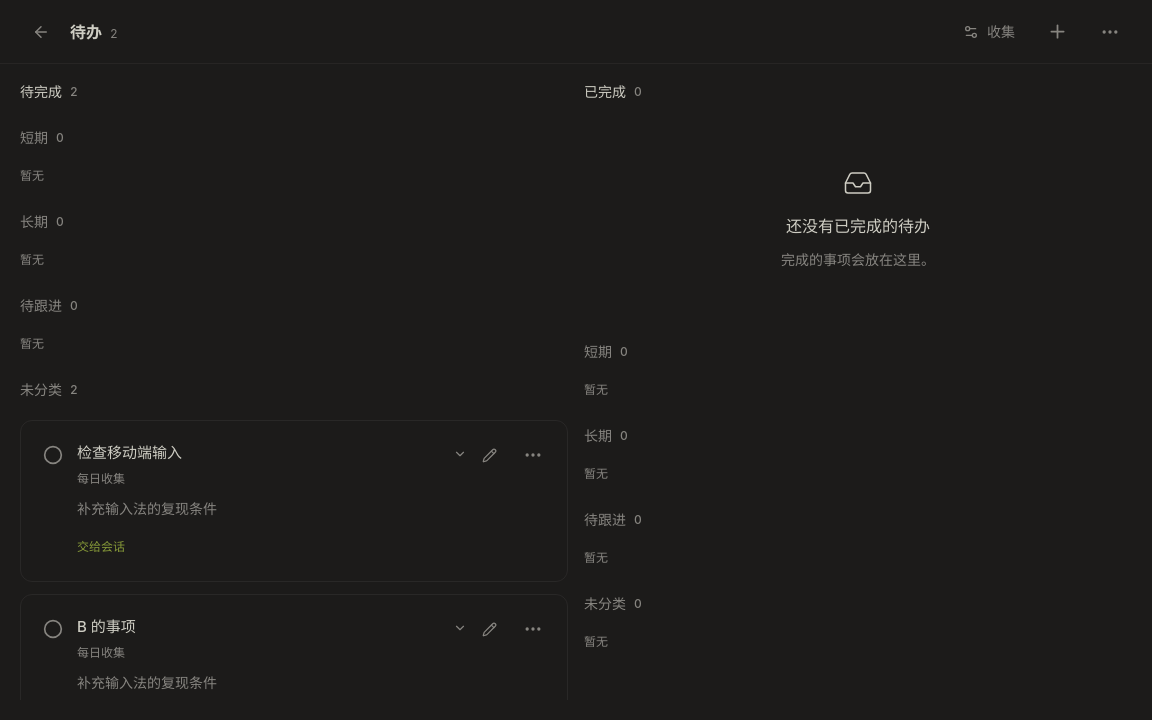
Test: filters identical collector names by stable ID and follows renamed labels
Expected: the text "检查移动端输入" is shown, [77,443,182,462]
Click the button named "待办菜单" at (1110, 32), box [1088,10,1132,54]
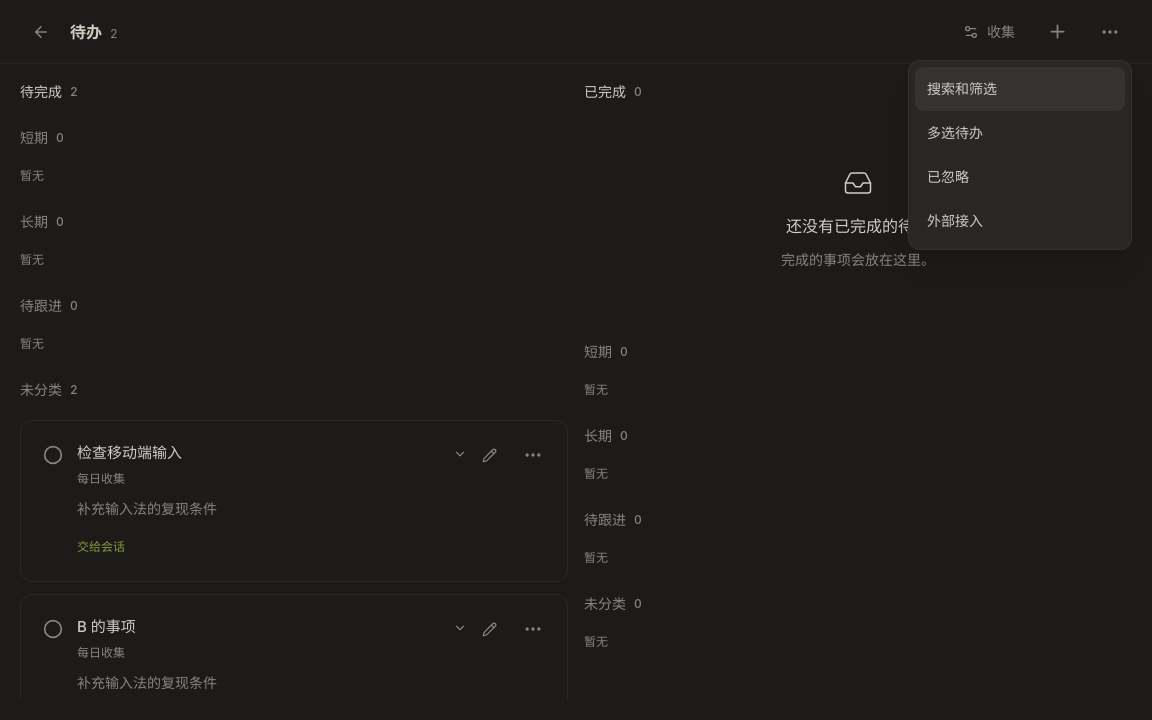
Click the menu item "搜索和筛选" at (1020, 88), box [915,66,1125,110]
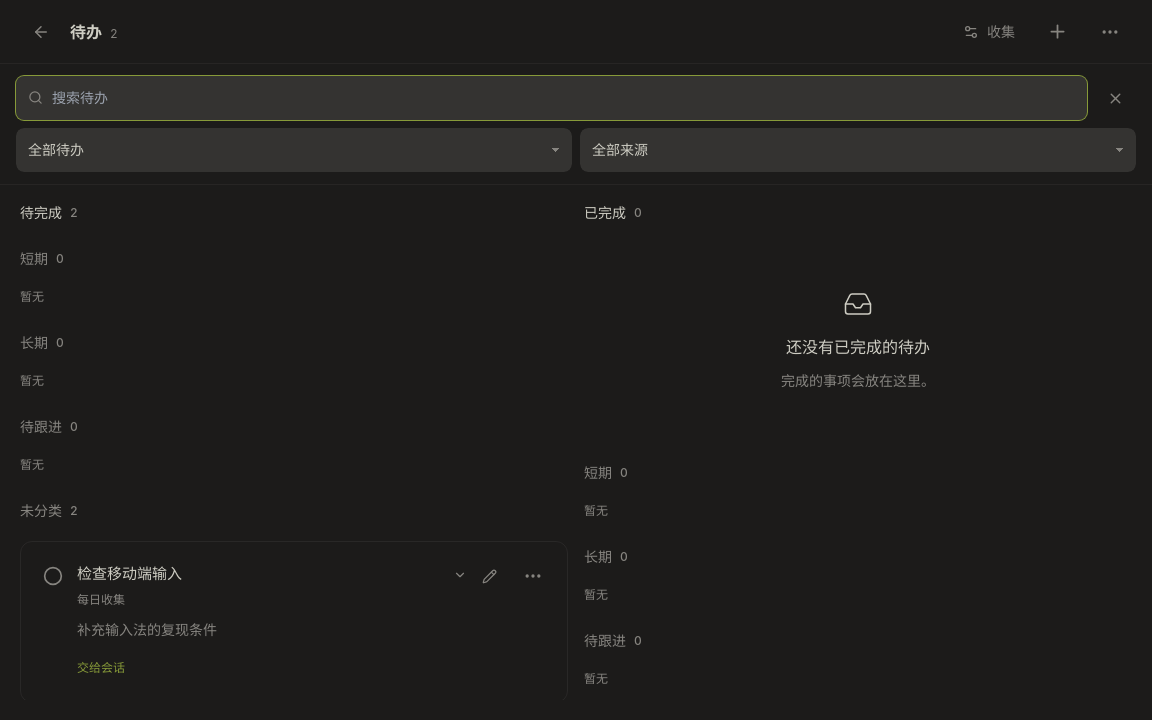
Select "每日收集 · collecto" in the dropdown named "按来源筛选" at (858, 150), box [580,128,1136,172]
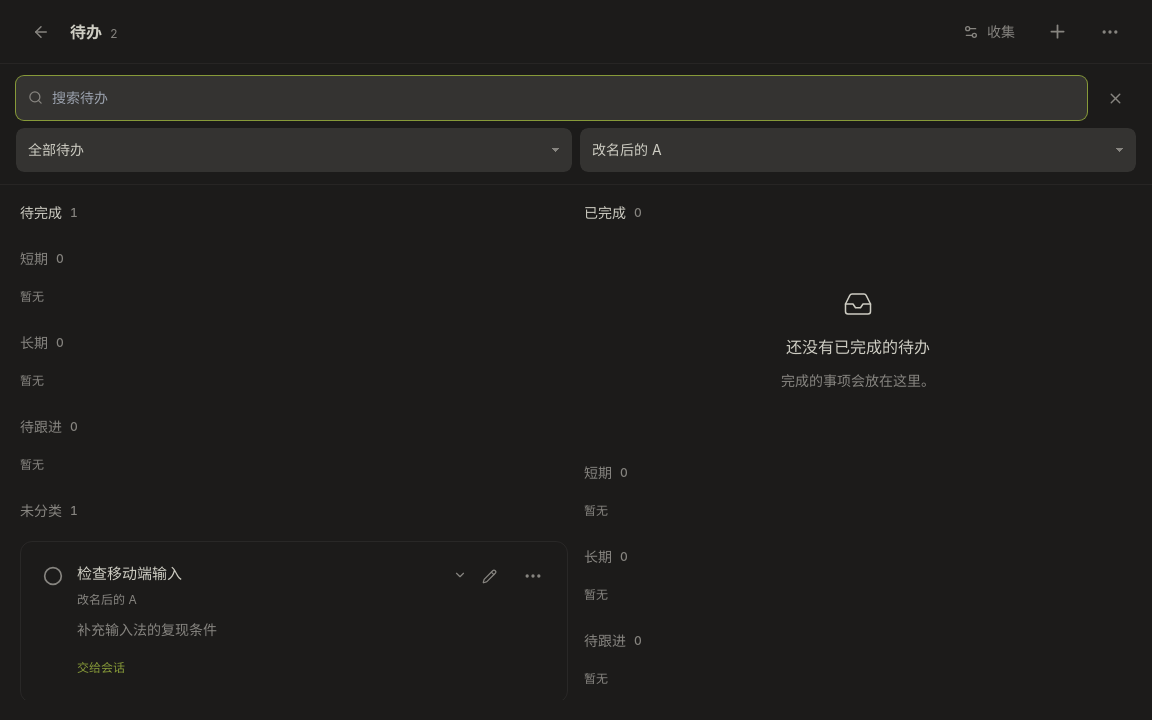
Expected: the button "B 的事项" is not shown
Expected: the text "改名后的 A" is shown, [77,592,137,607]
Click the button named "清除筛选" at (1116, 98), box [1095,76,1136,120]
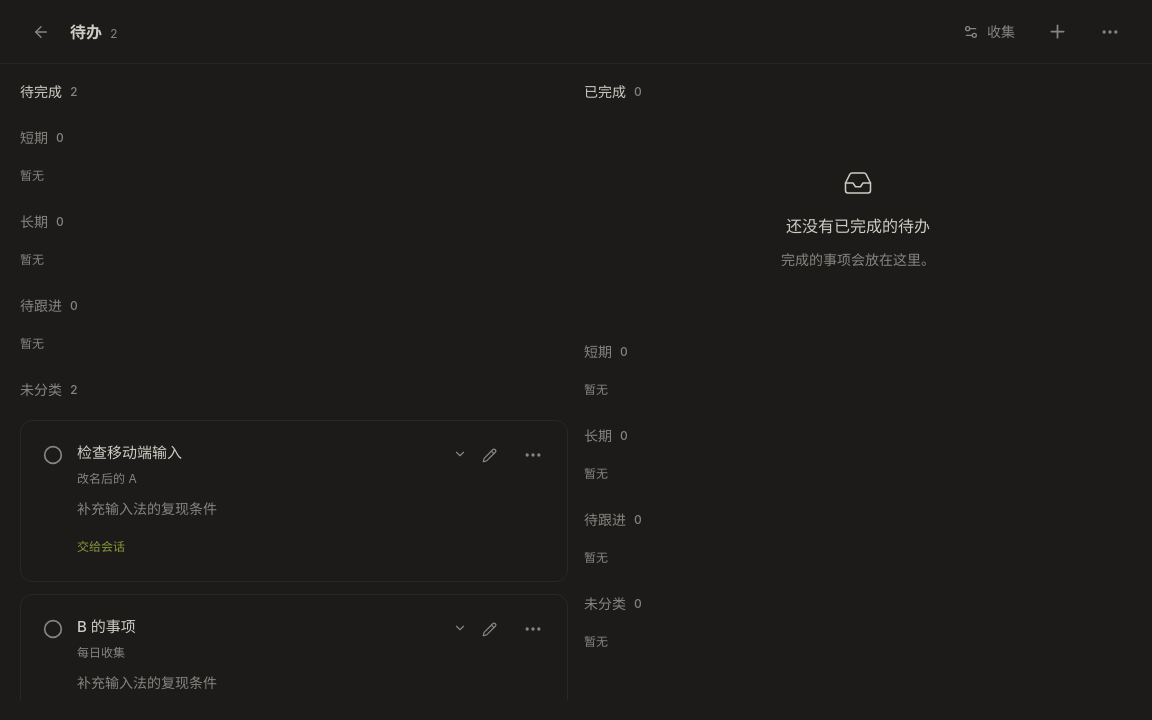
Expected: the button "B 的事项" is shown, [77,615,467,639]
